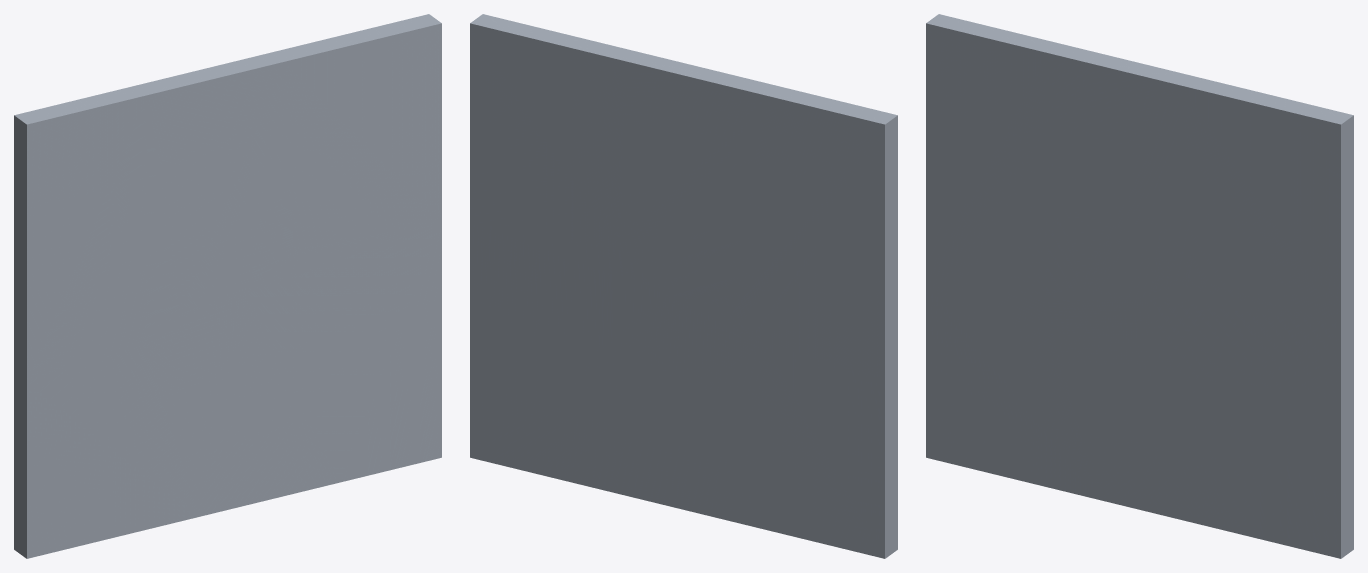
File: Kit_Steel_Wall_Fractured.glb
3 views of the same model, side by side, from view 1: azimuth 30°, elevation 25°; view 2: azimuth 150°, elevation 25°; view 3: azimuth 330°, elevation 25° (orthographic).
Parts seen in each view (by area): view 1: Kit_Steel_Wall_frag_02, Kit_Steel_Wall_frag_05, Kit_Steel_Wall_frag_06, Kit_Steel_Wall_frag_04, Kit_Steel_Wall_frag_01, Kit_Steel_Wall_frag_03; view 2: Kit_Steel_Wall_frag_02, Kit_Steel_Wall_frag_05, Kit_Steel_Wall_frag_06, Kit_Steel_Wall_frag_01, Kit_Steel_Wall_frag_04, Kit_Steel_Wall_frag_03; view 3: Kit_Steel_Wall_frag_05, Kit_Steel_Wall_frag_02, Kit_Steel_Wall_frag_06, Kit_Steel_Wall_frag_04, Kit_Steel_Wall_frag_01, Kit_Steel_Wall_frag_03.
Boxes of the visible parts, x1=… form: Kit_Steel_Wall_frag_02: x1=14, y1=85, x2=180, y2=381; Kit_Steel_Wall_frag_05: x1=248, y1=222, x2=441, y2=482; Kit_Steel_Wall_frag_06: x1=272, y1=14, x2=441, y2=248; Kit_Steel_Wall_frag_04: x1=136, y1=52, x2=293, y2=311; Kit_Steel_Wall_frag_01: x1=14, y1=343, x2=199, y2=558; Kit_Steel_Wall_frag_03: x1=145, y1=293, x2=339, y2=516; Kit_Steel_Wall_frag_02: x1=731, y1=86, x2=897, y2=381; Kit_Steel_Wall_frag_05: x1=470, y1=222, x2=664, y2=482; Kit_Steel_Wall_frag_06: x1=470, y1=14, x2=639, y2=248; Kit_Steel_Wall_frag_01: x1=711, y1=343, x2=897, y2=558; Kit_Steel_Wall_frag_04: x1=618, y1=52, x2=776, y2=311; Kit_Steel_Wall_frag_03: x1=572, y1=293, x2=766, y2=516; Kit_Steel_Wall_frag_05: x1=1147, y1=278, x2=1353, y2=558; Kit_Steel_Wall_frag_02: x1=926, y1=14, x2=1079, y2=298; Kit_Steel_Wall_frag_06: x1=1184, y1=77, x2=1353, y2=323; Kit_Steel_Wall_frag_04: x1=1047, y1=43, x2=1196, y2=299; Kit_Steel_Wall_frag_01: x1=926, y1=280, x2=1098, y2=499; Kit_Steel_Wall_frag_03: x1=1044, y1=285, x2=1238, y2=533.
Size of what is drawn, in the model's own units: 3 by 3 by 0.16.
2 materials, 2 textured.
